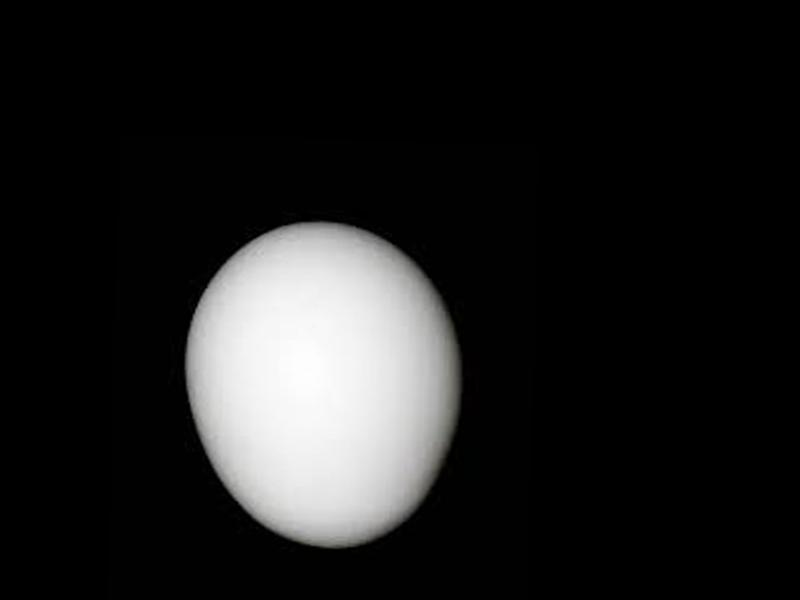Eggs: (182, 216, 459, 547)
